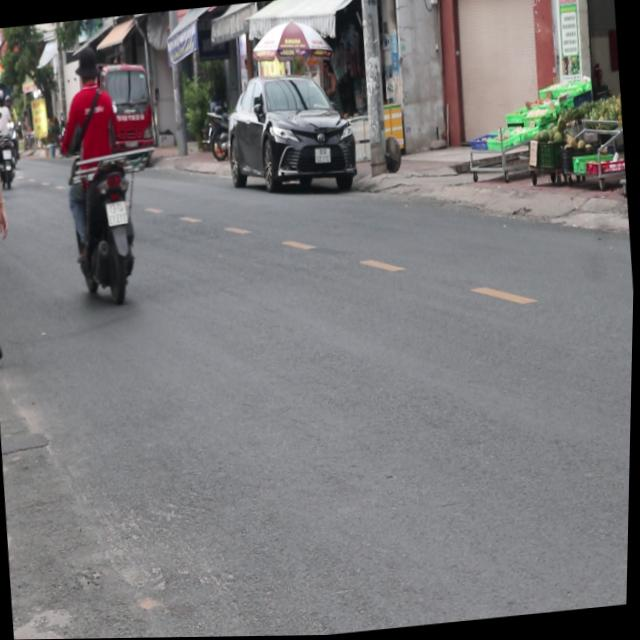licenseplate: (52, 39, 147, 306)
motorcyclist: (74, 43, 101, 86)
nohelmet: (106, 199, 130, 224)
